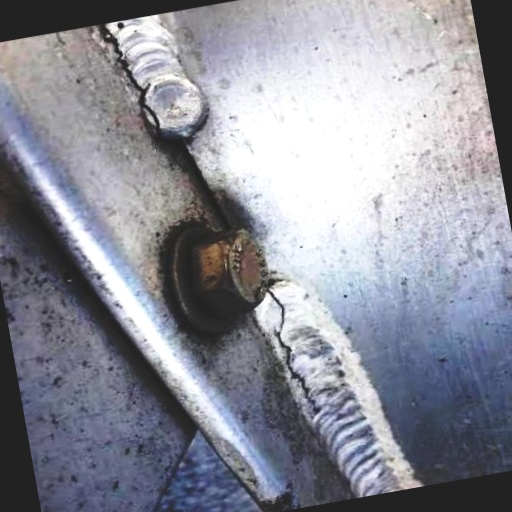crack: (257, 278, 335, 437), (88, 17, 168, 161)
